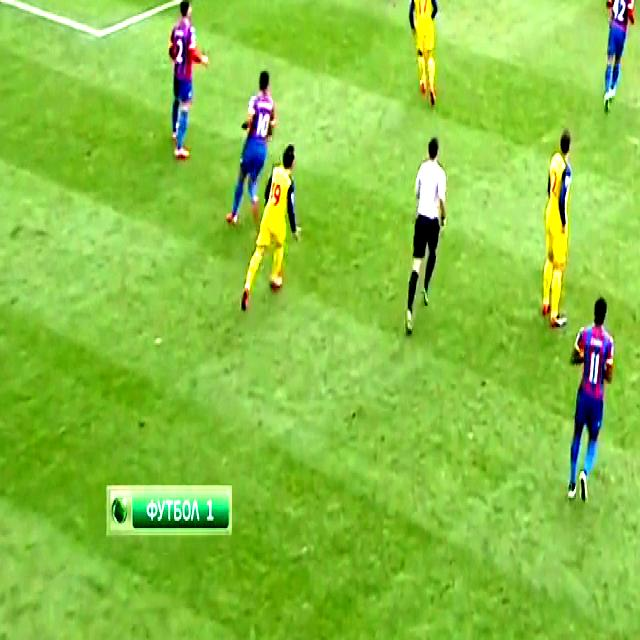referee: (395, 123, 456, 340)
soccer-player: (558, 289, 621, 510), (242, 130, 307, 311), (220, 58, 283, 234), (154, 0, 212, 169), (537, 120, 582, 335), (592, 0, 637, 119), (403, 0, 445, 116)
